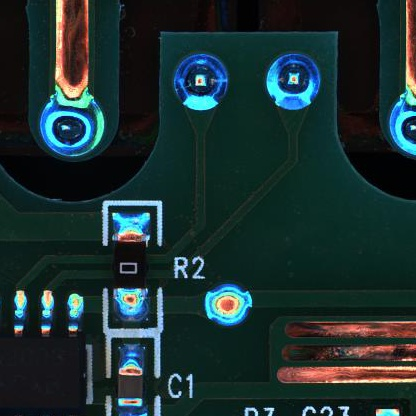spot: (40, 93, 107, 157), (172, 53, 231, 110), (267, 52, 322, 110), (204, 284, 255, 327)
